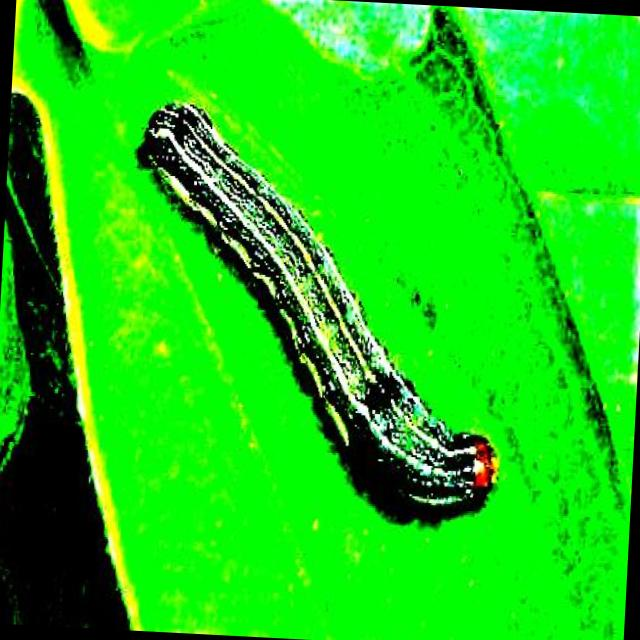Armyworm: (116, 58, 553, 537)
